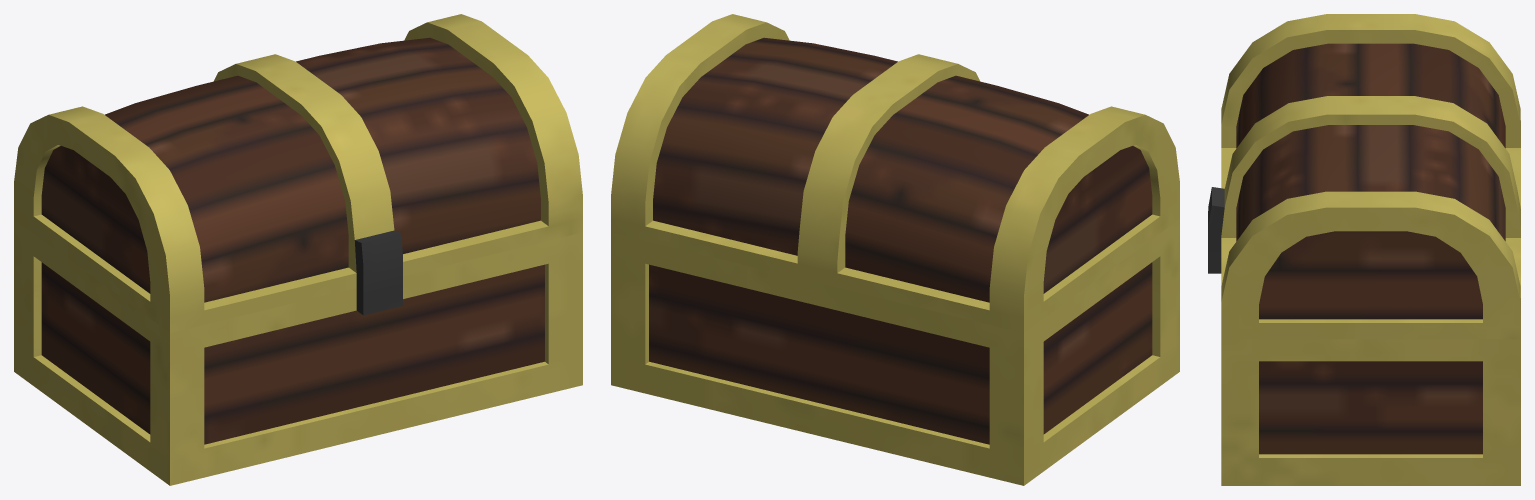
The model's file is Chest2.fbx.
3 views of the same model, side by side, from view 1: azimuth 30°, elevation 25°; view 2: azimuth 150°, elevation 25°; view 3: azimuth 270°, elevation 25° (orthographic). The views are drawn at different scales.
Visible parts, largest first — view 1: Chest2P2, Chest2P1; view 2: Chest2P2, Chest2P1; view 3: Chest2P2, Chest2P1.
Boxes of the visible parts, x1=… form: Chest2P2: x1=14, y1=14, x2=582, y2=332; Chest2P1: x1=14, y1=219, x2=582, y2=485; Chest2P2: x1=611, y1=14, x2=1179, y2=332; Chest2P1: x1=611, y1=219, x2=1179, y2=485; Chest2P2: x1=1208, y1=14, x2=1520, y2=339; Chest2P1: x1=1208, y1=251, x2=1520, y2=485.
Size of the model in its own units: 107 by 73.21 by 73.11.
